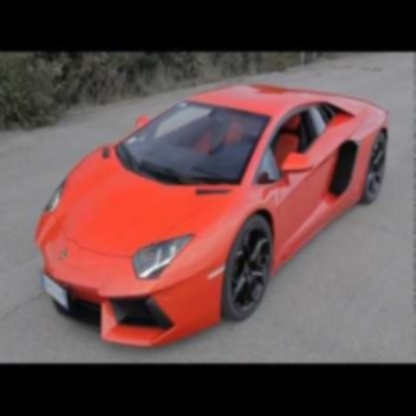Vehicle: (34, 84, 392, 349)
